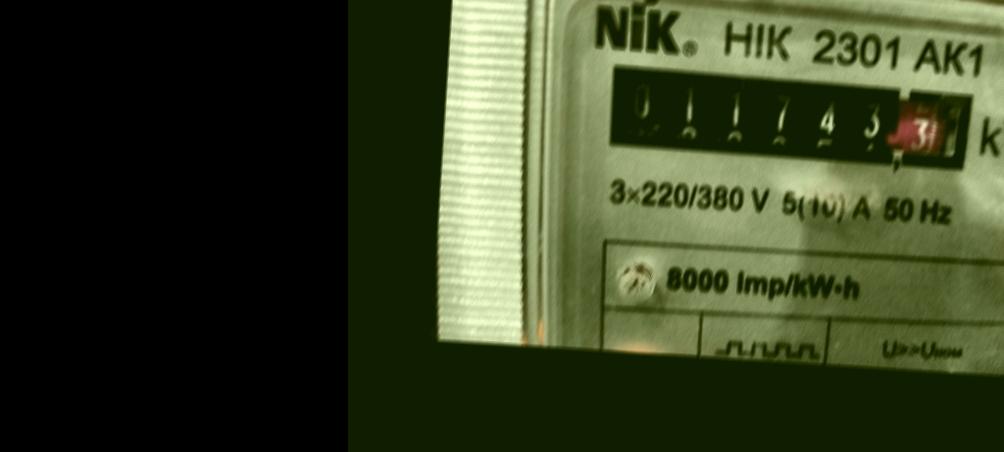0: (628, 81, 653, 121), (678, 83, 699, 125)
1: (725, 87, 744, 129)
3: (859, 98, 882, 142), (907, 114, 929, 153)
4: (815, 95, 837, 137)
7: (768, 89, 793, 135)
screen: (587, 51, 981, 182)
